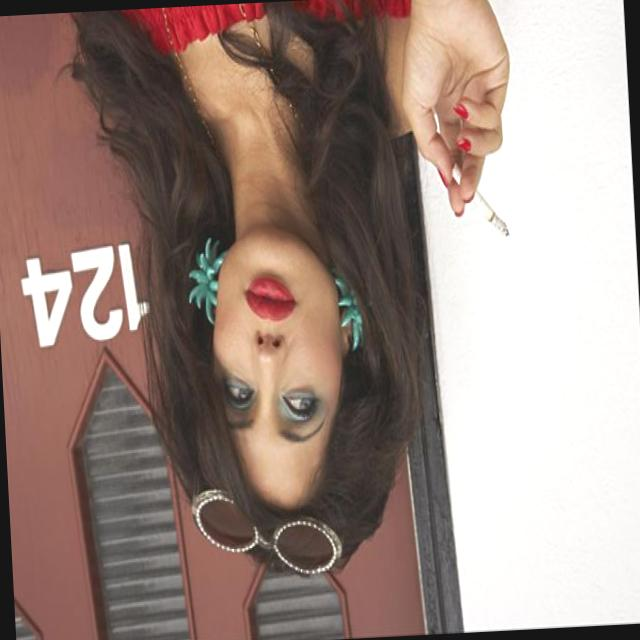cigarette: (447, 162, 520, 243)
